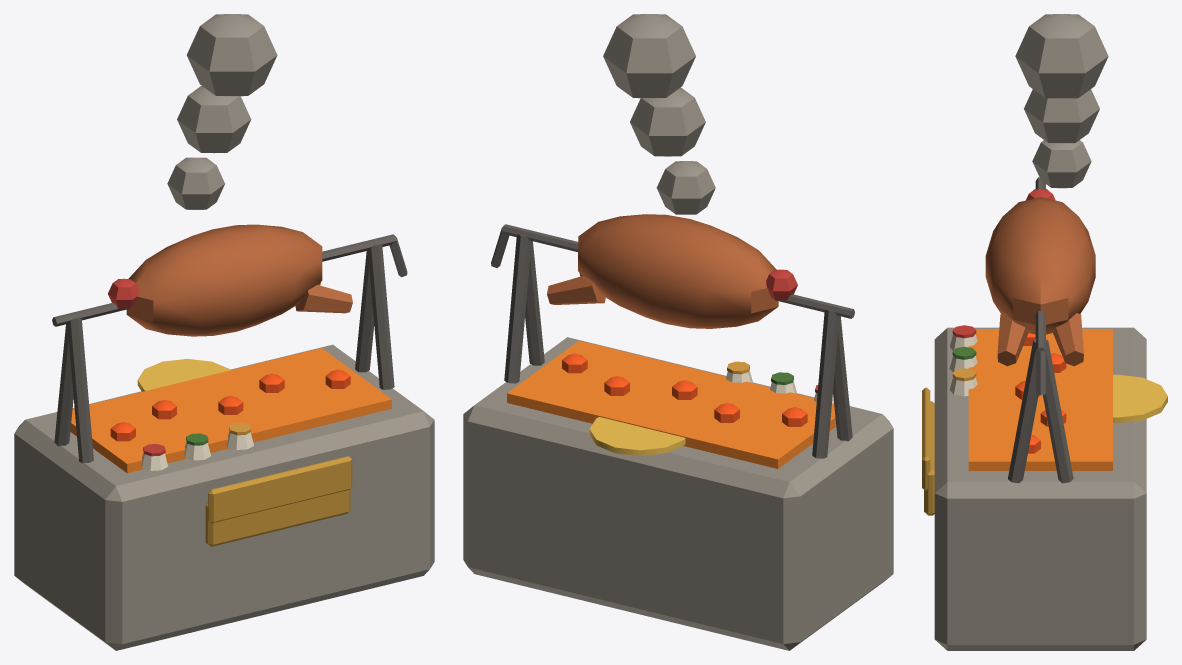
The model's file is PR_Station_Solen_T2.fbx.
The picture shows the model from 3 angles, left to right: view 1: azimuth 30°, elevation 25°; view 2: azimuth 150°, elevation 25°; view 3: azimuth 270°, elevation 25°; orthographic projection. The views are drawn at different scales.
Parts seen in each view (by area): view 1: PR_Station_Solen_T2; view 2: PR_Station_Solen_T2; view 3: PR_Station_Solen_T2.
Boxes of the visible parts, box(x1,y1,x2,y2) form: PR_Station_Solen_T2: box(14, 14, 434, 650); PR_Station_Solen_T2: box(463, 14, 893, 650); PR_Station_Solen_T2: box(922, 14, 1167, 650).
Size of the model in its own units: 0.9865 by 1.48 by 0.58.
Materials: 1 (1 with a texture image).
